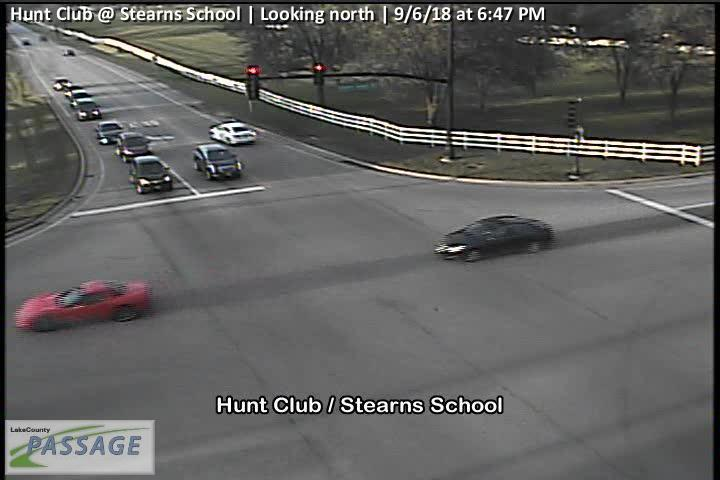SUV: (115, 132, 150, 162)
Sedan: (12, 278, 150, 333), (434, 214, 554, 264), (191, 145, 242, 180), (129, 156, 173, 193), (210, 122, 257, 146), (96, 121, 124, 144), (74, 98, 101, 121), (67, 88, 87, 104), (52, 76, 72, 90)
